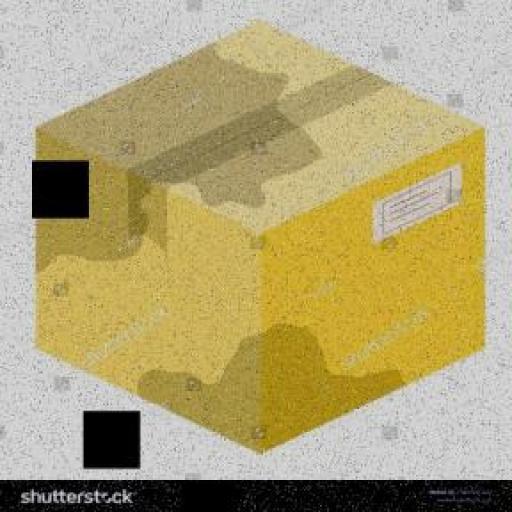box: (30, 19, 491, 454)
